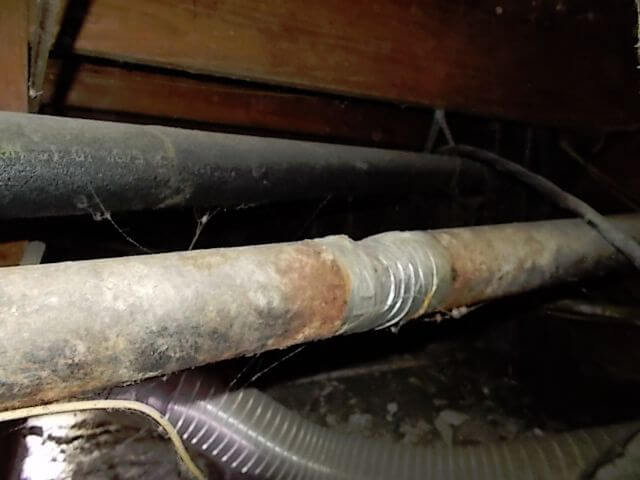Low: (259, 243, 350, 347)
